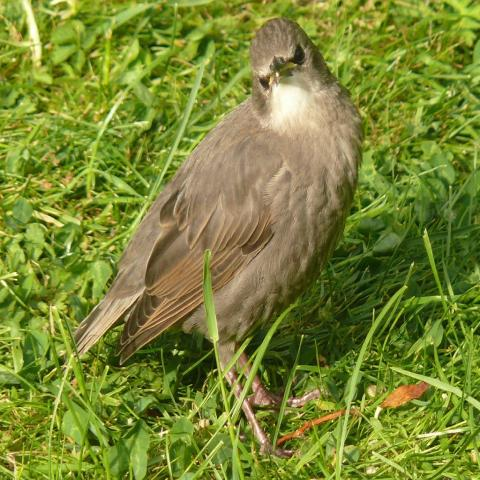bird: (66, 15, 366, 459)
